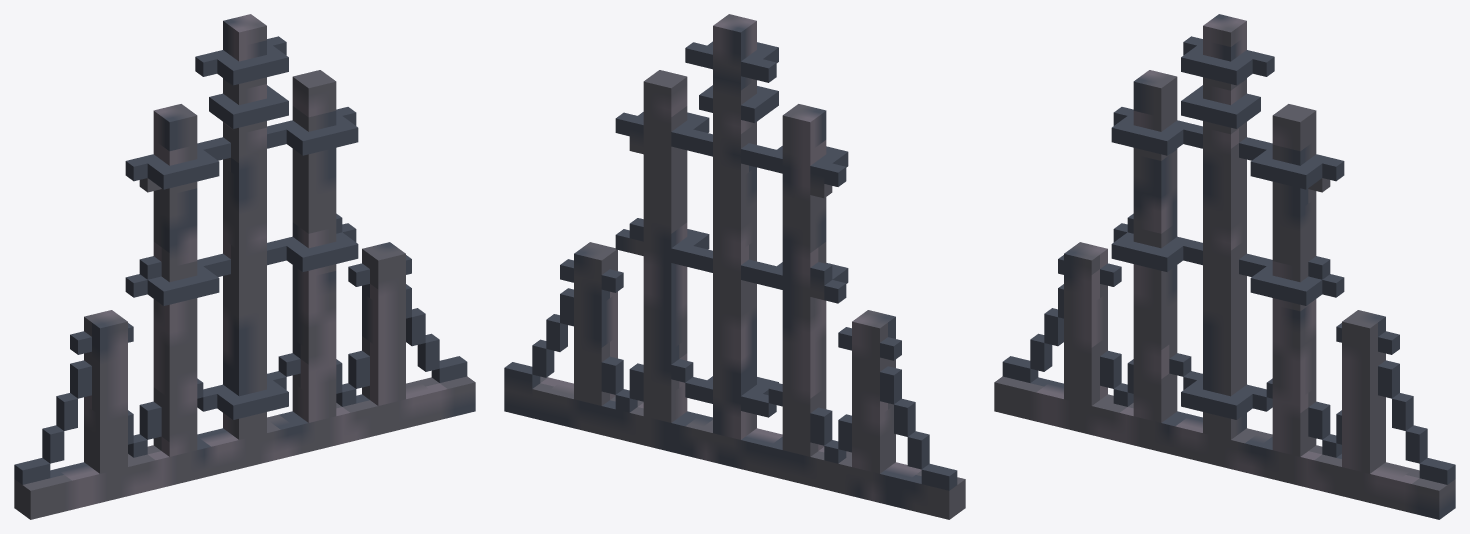
The model's file is FenceModule-6.fbx.
3 renders of one model, left to right at view 1: azimuth 30°, elevation 25°; view 2: azimuth 150°, elevation 25°; view 3: azimuth 330°, elevation 25°, orthographic.
Parts seen in each view (by area): view 1: FenceModule-6; view 2: FenceModule-6; view 3: FenceModule-6.
Part boxes in pixels (x1,y1,x2,y2): FenceModule-6: [14, 14, 475, 519]; FenceModule-6: [504, 14, 965, 519]; FenceModule-6: [994, 14, 1455, 519].
Bounding box in the file's own units: 160 × 150 × 15.
